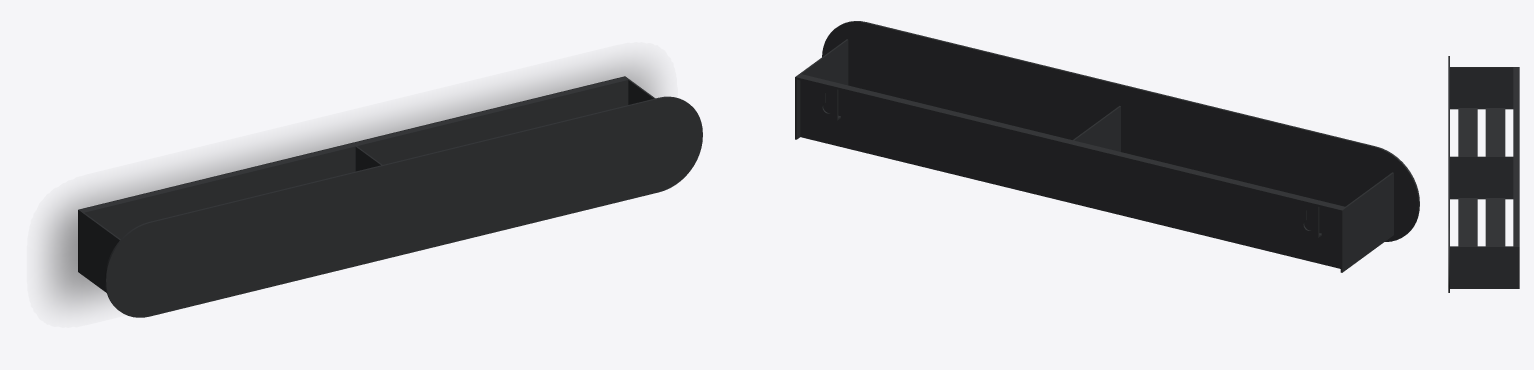
Rendered from round-mono.8a74c8a8b5.ar.glb.
The picture shows the model from 3 angles, left to right: view 1: azimuth 30°, elevation 25°; view 2: azimuth 150°, elevation 25°; view 3: azimuth 270°, elevation 25°; orthographic projection. The views are drawn at different scales.
Visible parts, largest first — view 1: NAUO1, object 2; view 2: NAUO1; view 3: NAUO1.
Boxes of the visible parts, x1=… form: NAUO1: x1=78, y1=76, x2=702, y2=317; object 2: x1=45, y1=64, x2=657, y2=305; NAUO1: x1=795, y1=21, x2=1419, y2=272; NAUO1: x1=1448, y1=56, x2=1519, y2=292.
Bounding box in the file's own units: 0.68 × 0.17 × 0.092.
Materials: 2 (1 with a texture image).
